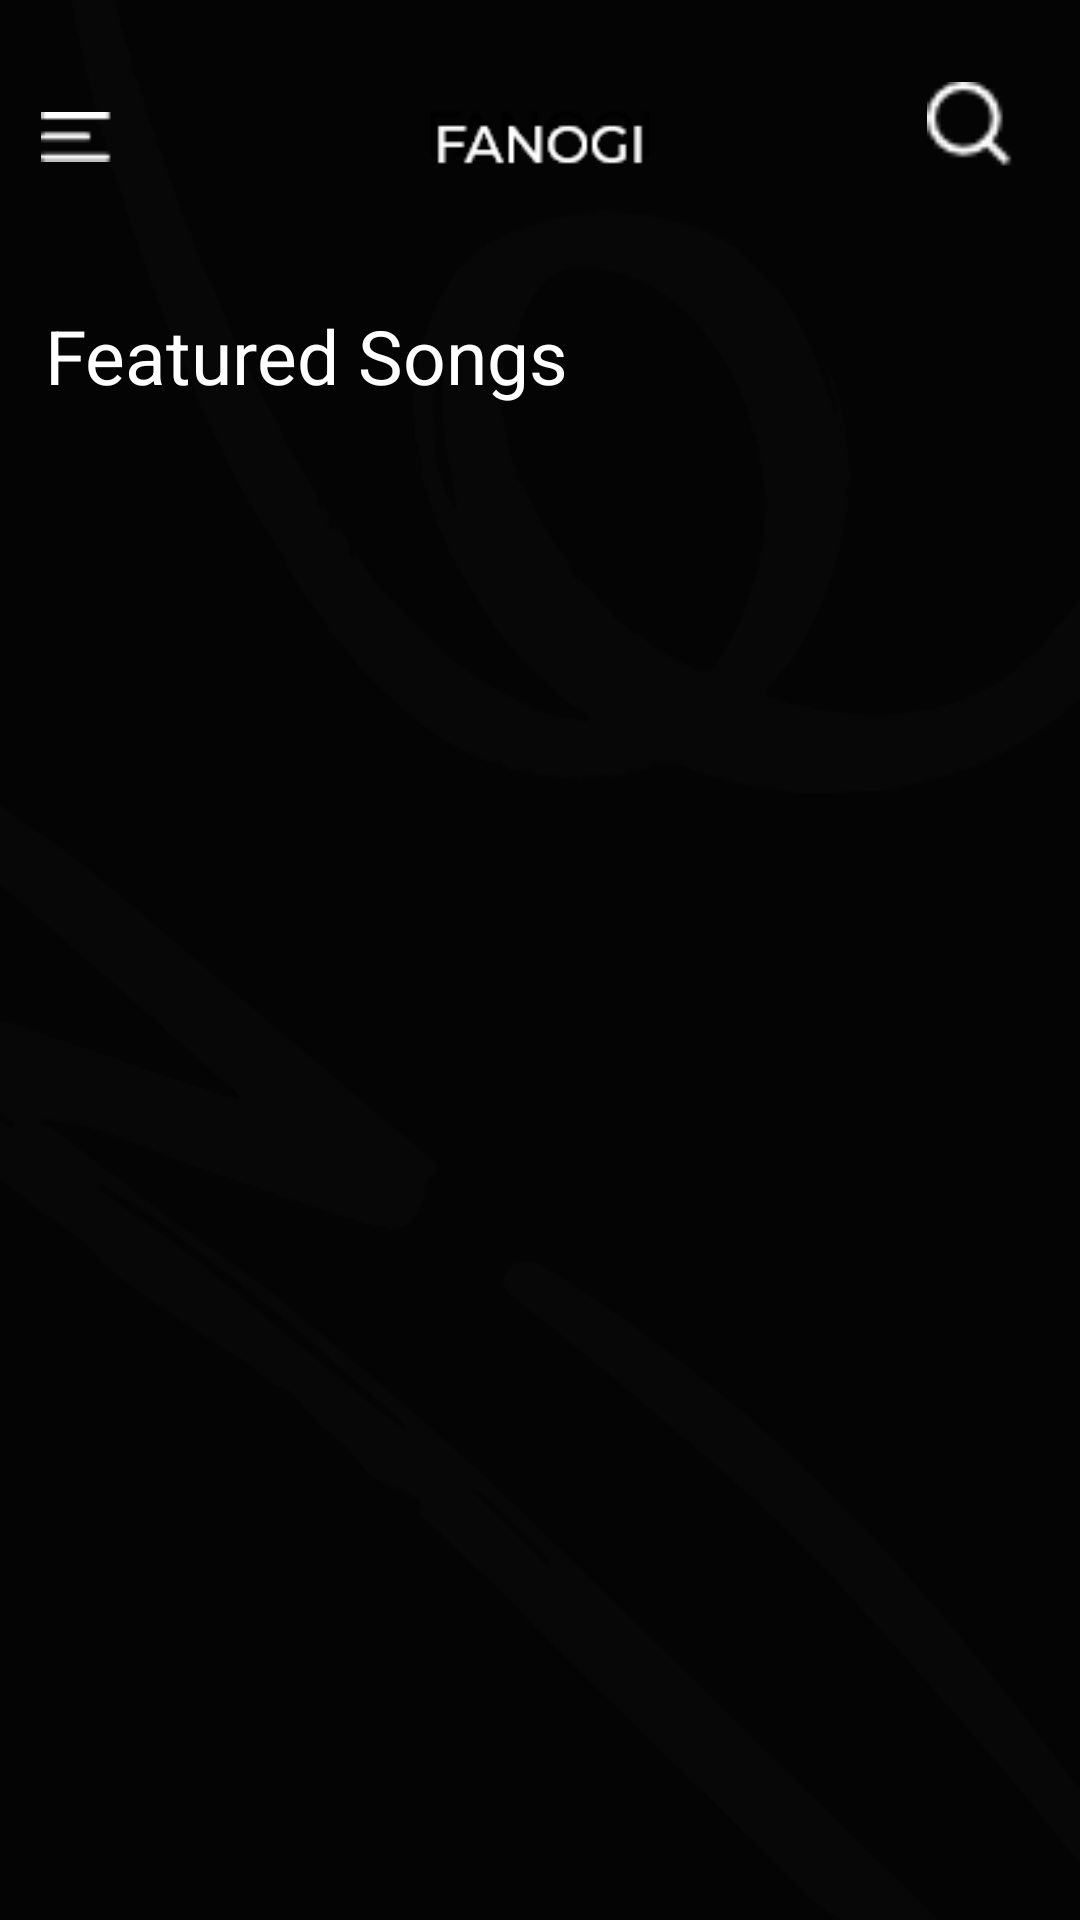

Locate icon controls on the screen. Image size 1080w x 1920h, boxes as (x1, y1, x2, y2).
searchbutton: (927, 82, 1011, 166)
